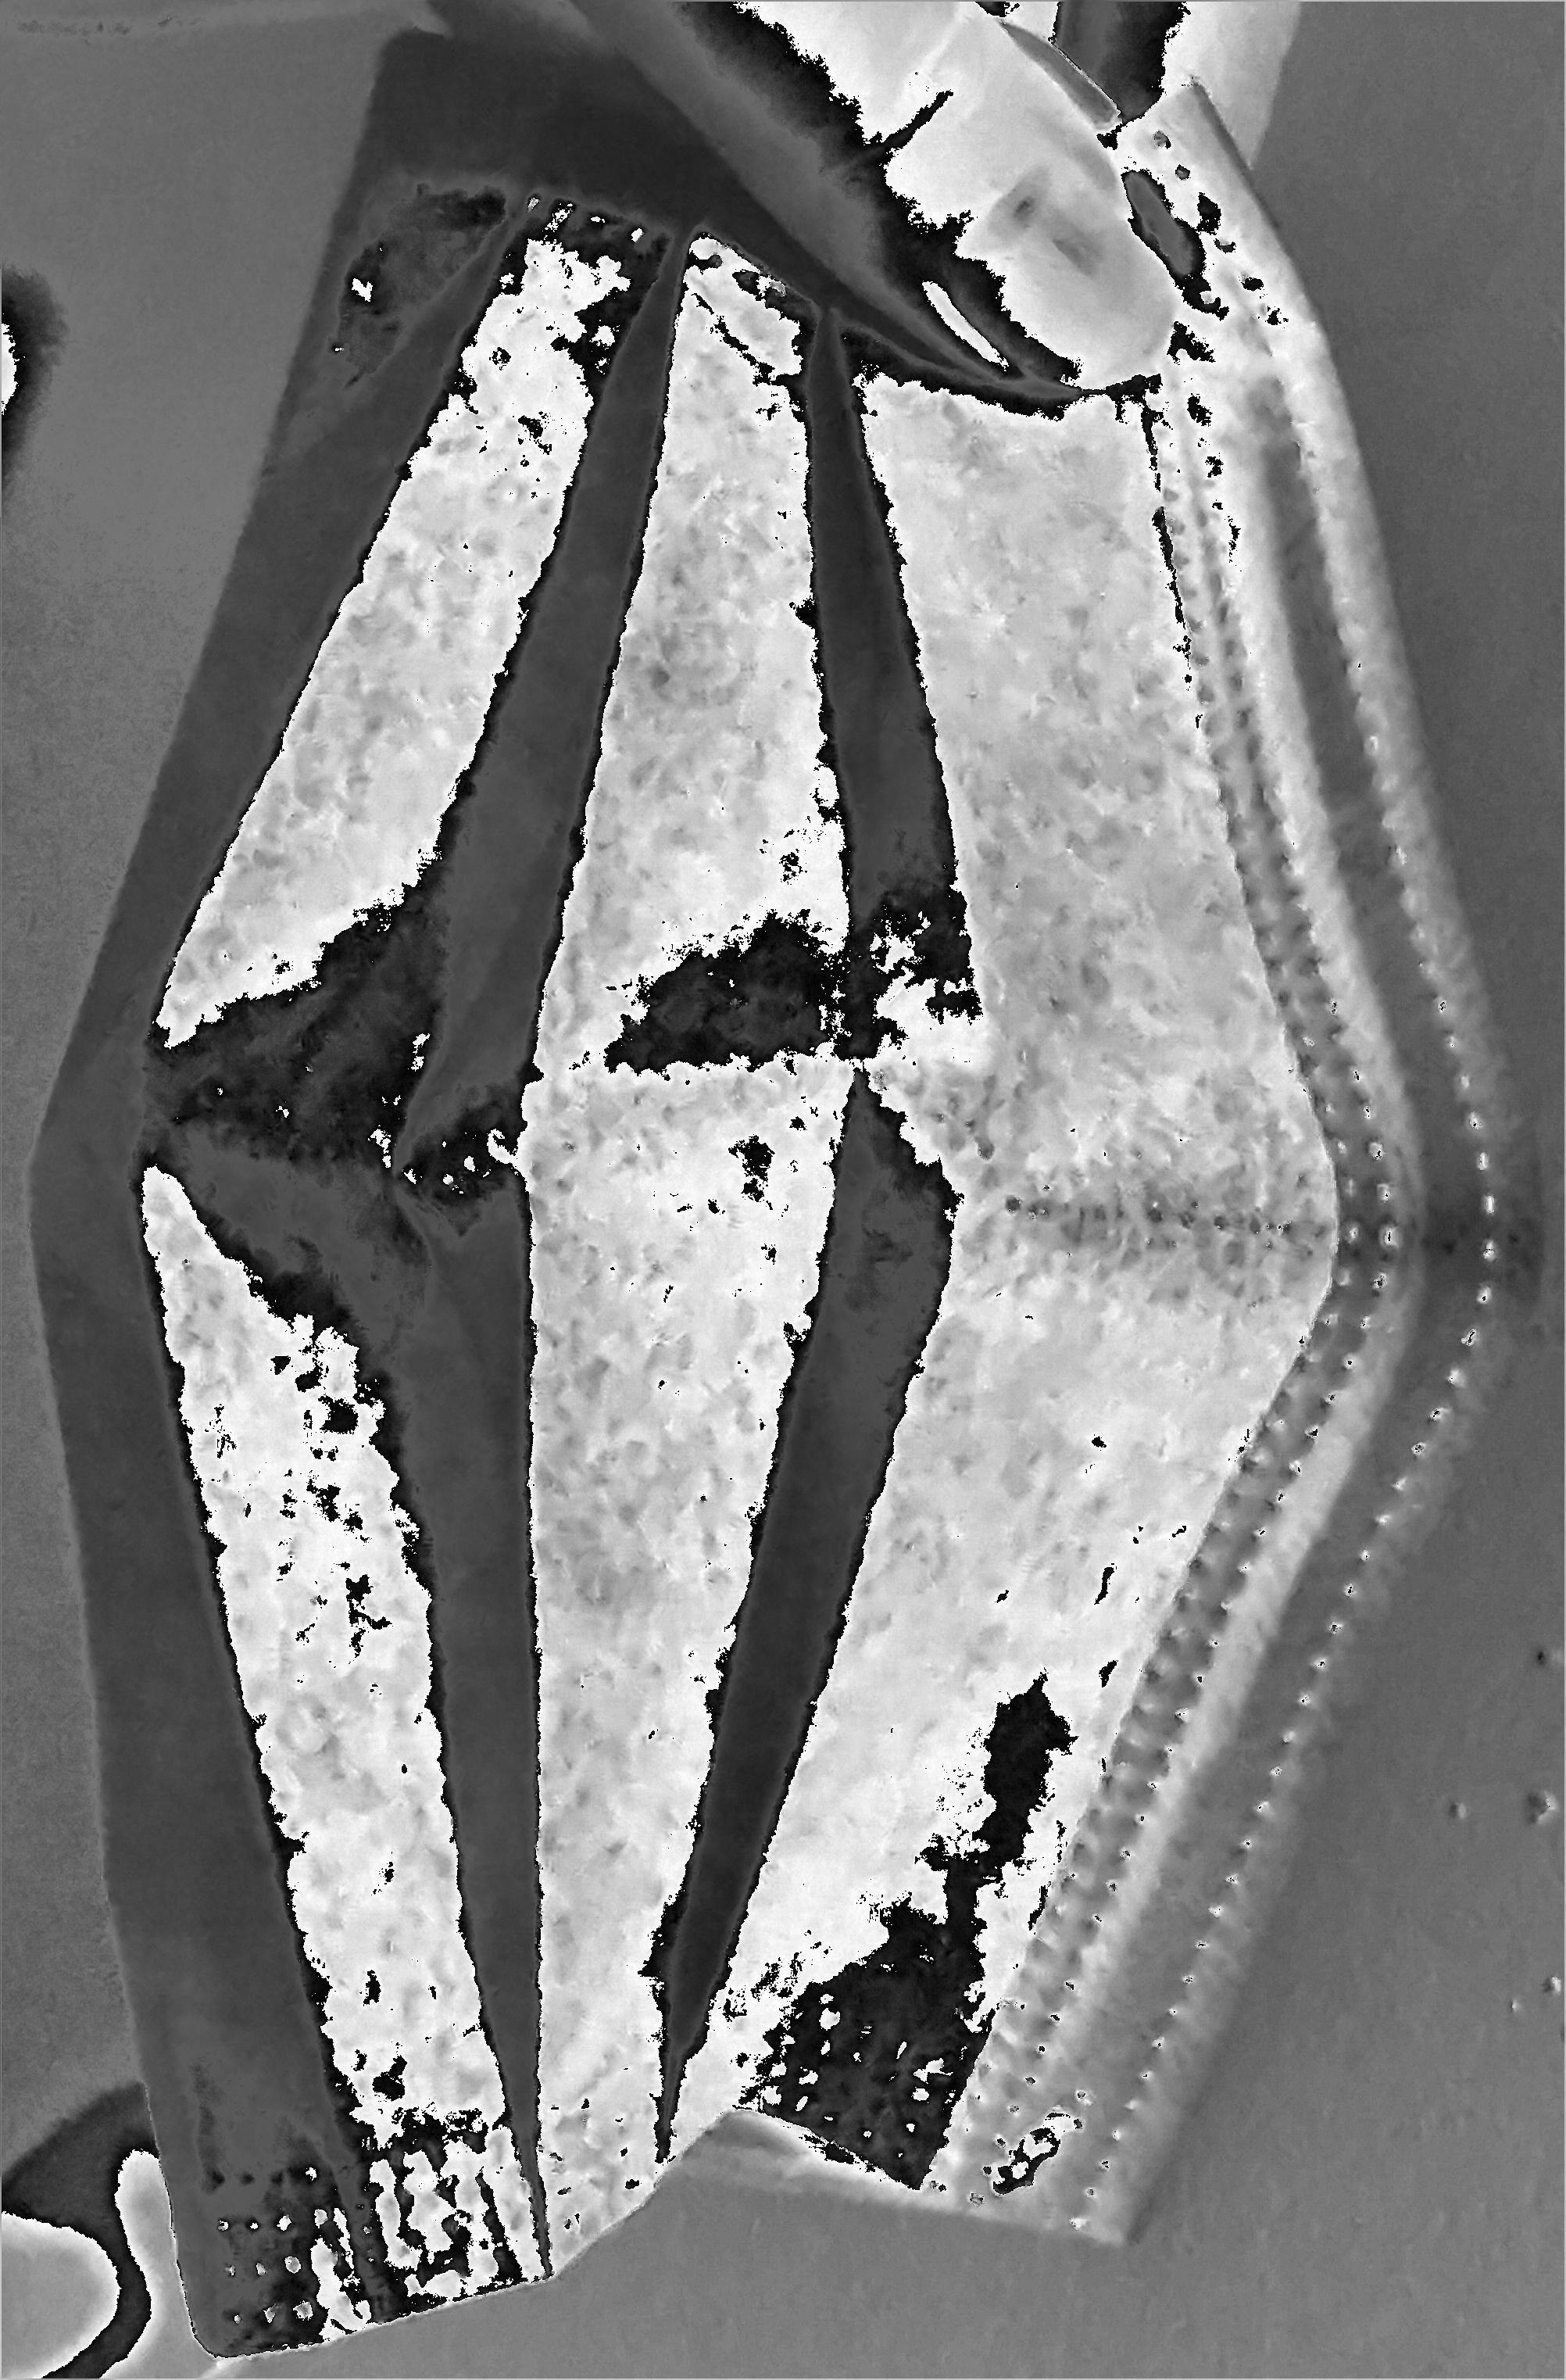Low GSM: (260, 437, 1131, 2067)
Undefined Area: (484, 2, 1194, 395)
